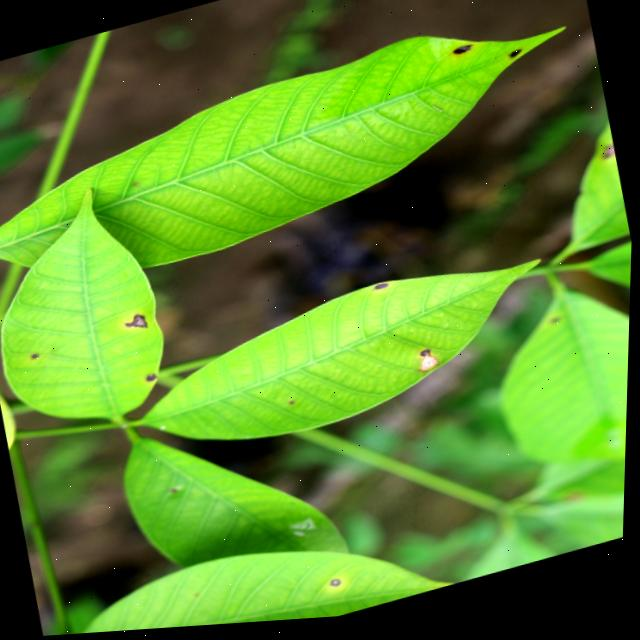Colletotrichum: (130, 313, 150, 333), (451, 50, 472, 63), (145, 374, 159, 385), (507, 56, 522, 66), (375, 287, 390, 296), (332, 583, 343, 592), (422, 355, 433, 363)
